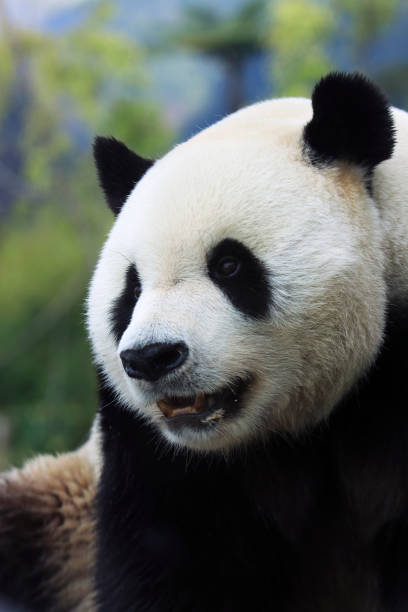panda: (38, 49, 408, 482)
